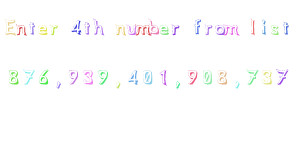,: (172, 79, 183, 90), (53, 79, 63, 91), (232, 79, 242, 90), (114, 80, 123, 90)
0: (141, 68, 154, 86), (201, 68, 213, 86)
1: (157, 68, 169, 87)
3: (260, 68, 273, 86), (81, 69, 94, 86)
4: (69, 18, 82, 38), (126, 68, 140, 86)
6: (37, 68, 50, 86)
7: (274, 67, 289, 86), (245, 66, 259, 85), (22, 68, 36, 86)
8: (7, 68, 20, 86), (216, 68, 229, 86)
9: (185, 67, 199, 86), (67, 68, 80, 86), (97, 69, 108, 86)
E: (3, 18, 16, 35)
b: (147, 17, 159, 36)
e: (36, 22, 48, 36), (159, 23, 169, 37)
f: (192, 16, 202, 36)
h: (92, 17, 104, 36)
i: (260, 18, 268, 36)
l: (247, 16, 257, 36)
m: (223, 23, 241, 37), (135, 23, 151, 36)
n: (15, 24, 27, 38), (114, 22, 126, 36)
o: (214, 22, 225, 37)
r: (170, 23, 182, 38), (48, 22, 59, 37), (203, 23, 213, 36)
s: (269, 23, 281, 37)
t: (281, 18, 291, 38), (27, 20, 38, 37), (81, 21, 92, 36)
u: (126, 23, 137, 36)
